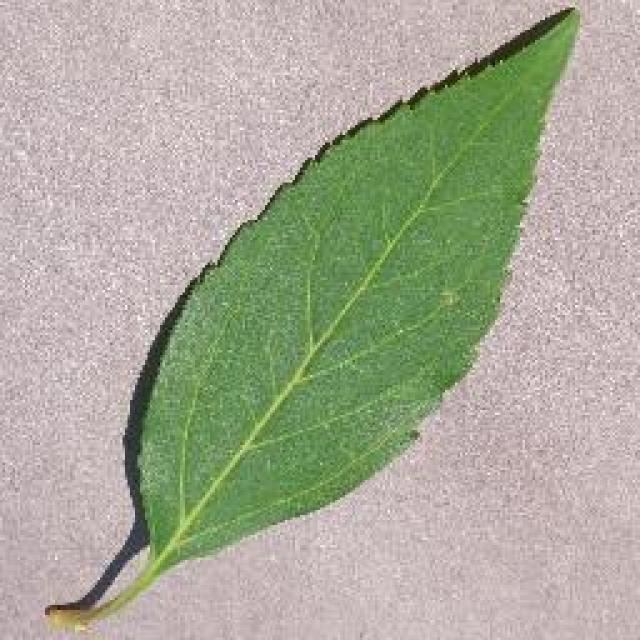Cherry___healthy: (35, 8, 593, 638)
